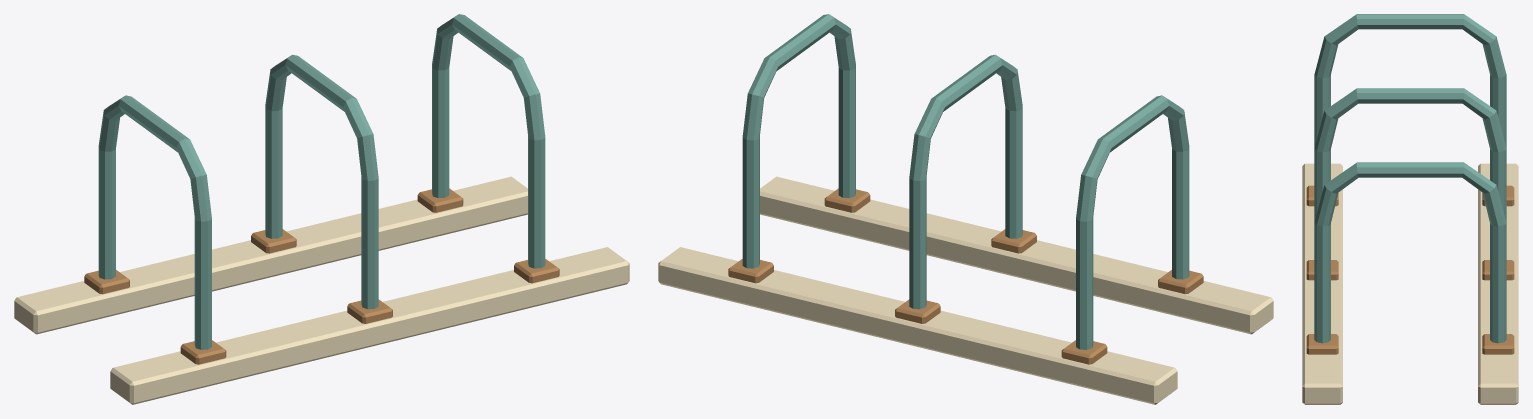
The picture shows the model from 3 angles, left to right: view 1: azimuth 30°, elevation 25°; view 2: azimuth 150°, elevation 25°; view 3: azimuth 270°, elevation 25°; orthographic projection. The views are drawn at different scales.
Parts seen in each view (by area): view 1: transport-cycle-rack-01; view 2: transport-cycle-rack-01; view 3: transport-cycle-rack-01.
Part boxes in pixels (x1,y1,x2,y2): transport-cycle-rack-01: (14,14,629,404); transport-cycle-rack-01: (658,14,1273,404); transport-cycle-rack-01: (1302,14,1518,404).
Size of the model in its own units: 1.8 by 0.7777 by 0.74.
